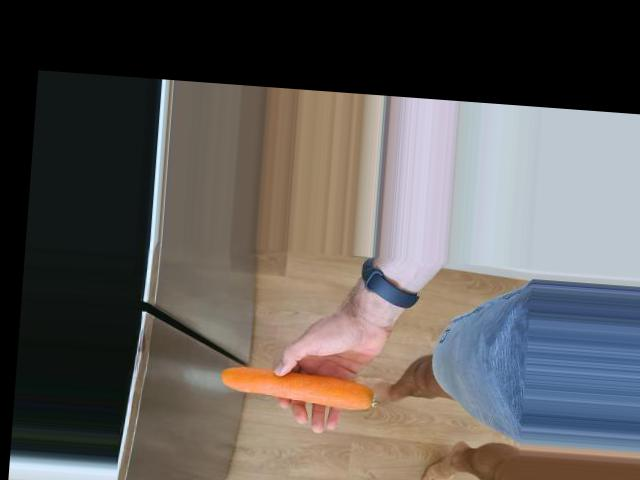carrot: (223, 363, 377, 411)
